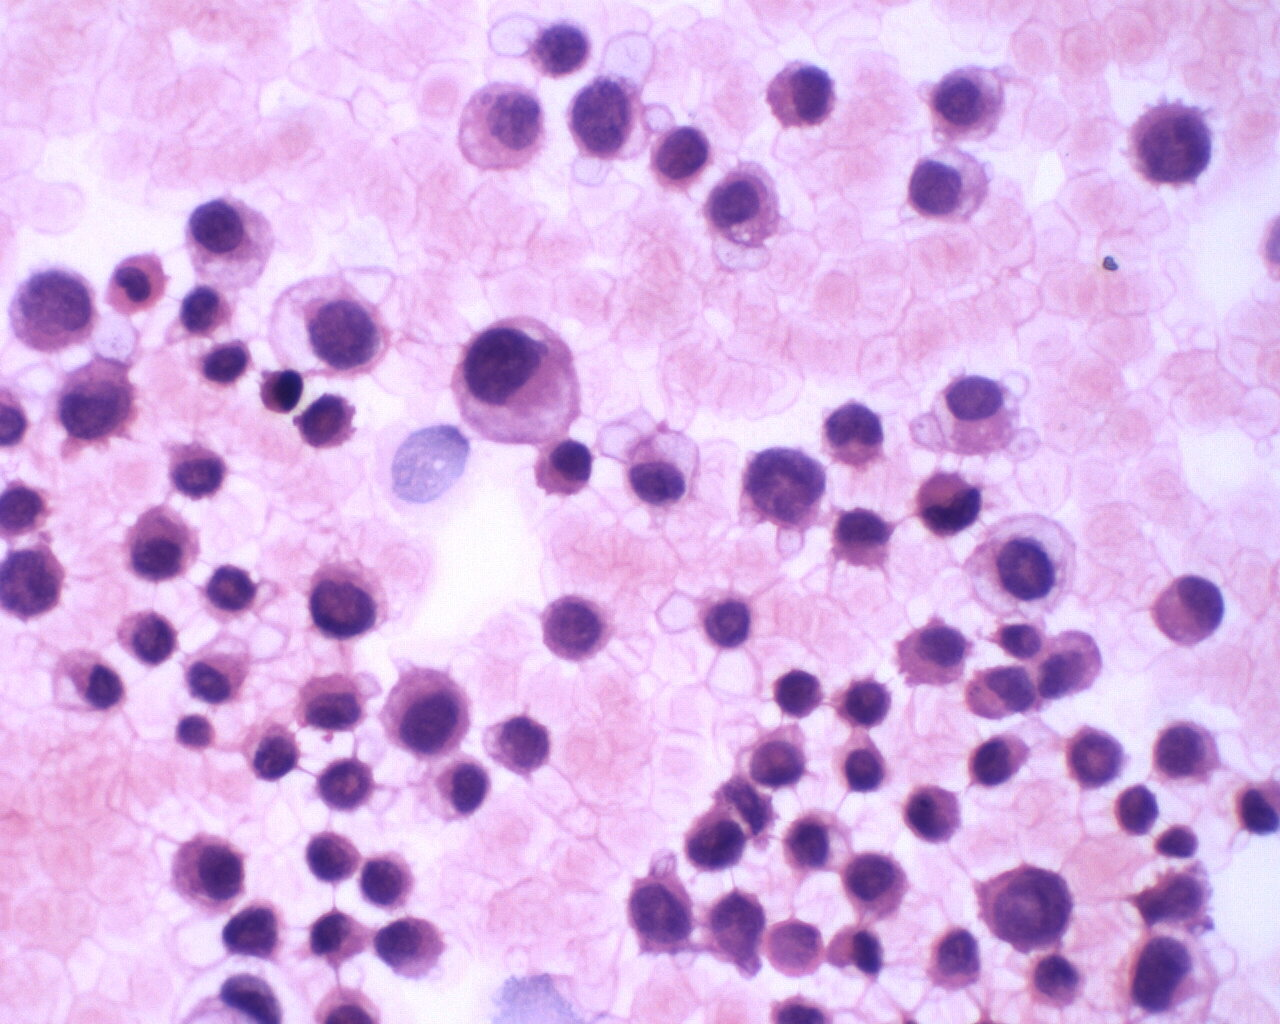ab: (7, 260, 100, 359), (979, 860, 1077, 953), (1126, 98, 1217, 193), (304, 552, 393, 646), (51, 358, 141, 449), (1117, 930, 1206, 1018), (561, 75, 646, 163), (623, 869, 696, 953), (537, 589, 614, 668), (1147, 713, 1223, 790), (290, 665, 366, 736), (840, 850, 915, 920), (922, 922, 991, 993), (1055, 721, 1126, 789), (684, 799, 747, 875), (652, 122, 718, 192), (316, 751, 381, 818), (165, 439, 229, 505), (356, 846, 418, 912), (290, 391, 356, 452), (764, 916, 827, 980), (115, 606, 180, 668), (196, 562, 262, 620), (303, 822, 360, 885), (835, 675, 894, 729), (1112, 782, 1163, 842)
meso: (449, 309, 588, 442), (378, 661, 484, 765), (174, 193, 279, 294), (165, 825, 246, 917), (922, 63, 1013, 139), (1150, 572, 1231, 655), (764, 53, 842, 134)
